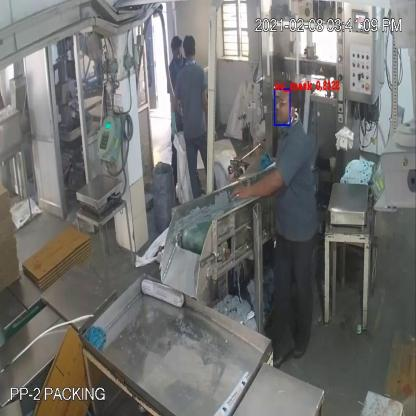no_glove: (226, 170, 288, 208)
